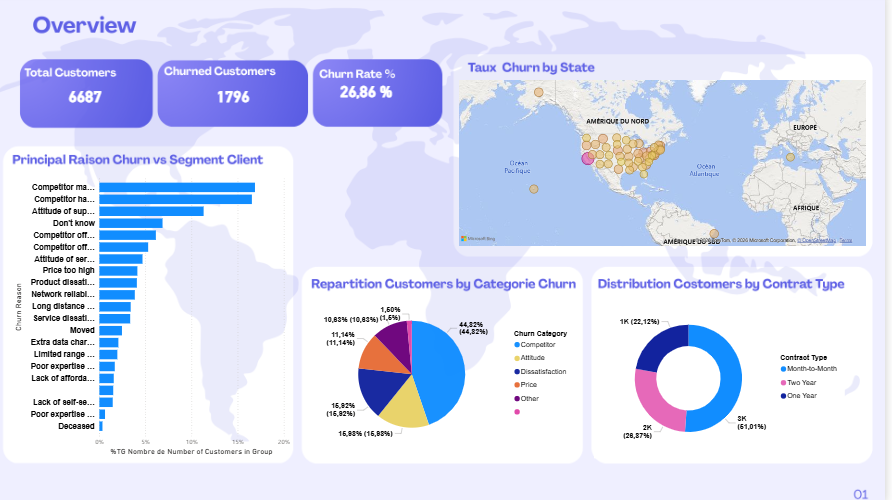

The dashboard page shown, as its layout file describes it:
{"tool":"powerbi","page":{"name":"Overview","canvas":[1680,960],"ordinal":1},"visuals":[{"type":"card","fields":{"Values":["Mesure.Nb of Churned Customers"]},"box":[307.4,115.5,280,150.8],"z":0},{"type":"card","fields":{"Values":["Mesure.NB of Customers"]},"box":[27.4,115.5,280,150.8],"z":1000},{"type":"card","fields":{"Values":["Mesure.Churn Rate"]},"box":[560,105.7,280,150.8],"z":2000},{"type":"donutChart","fields":{"Category":["Databel - Data.Contract Type"],"Y":["Mesure.NB of Customers"]},"box":[1129.8,571.7,473.8,303.5],"z":3000},{"type":"pieChart","fields":{"Category":["Databel - Data.Churn Category"],"Y":["CountNonNull(Databel - Data.Churn Label)"]},"box":[587.4,571.7,513,287.8],"z":4000},{"type":"map","fields":{"Category":["Databel - Data.State"],"Size":["Mesure.Churn Rate"]},"box":[869.4,154.7,779.3,325],"z":5000},{"type":"clusteredBarChart","fields":{"Category":["Databel - Data.Churn Reason"],"Y":["Sum(Databel - Data.Number of Customers in Group)"]},"box":[27.4,332.9,532.6,542.4],"z":6000},{"type":"actionButton","box":[1581,911.9,100,47.6],"z":6001}]}

Visuals, with their boxes in screenshot pixels (x1, y1, x2, y2), scaled from the page's 1680x960 canvas onto the 892x500 screenshot:
card - Mesure.Nb of Churned Customers: box(163, 60, 312, 139)
card - Mesure.NB of Customers: box(15, 60, 163, 139)
card - Mesure.Churn Rate: box(297, 55, 446, 134)
donutChart - Databel - Data.Contract Type x Mesure.NB of Customers: box(600, 298, 851, 456)
pieChart - Databel - Data.Churn Category x CountNonNull(Databel - Data.Churn Label): box(312, 298, 584, 448)
map - Databel - Data.State x Mesure.Churn Rate: box(462, 81, 875, 250)
clusteredBarChart - Databel - Data.Churn Reason x Sum(Databel - Data.Number of Customers in Group): box(15, 173, 297, 456)
actionButton: box(839, 475, 891, 499)
